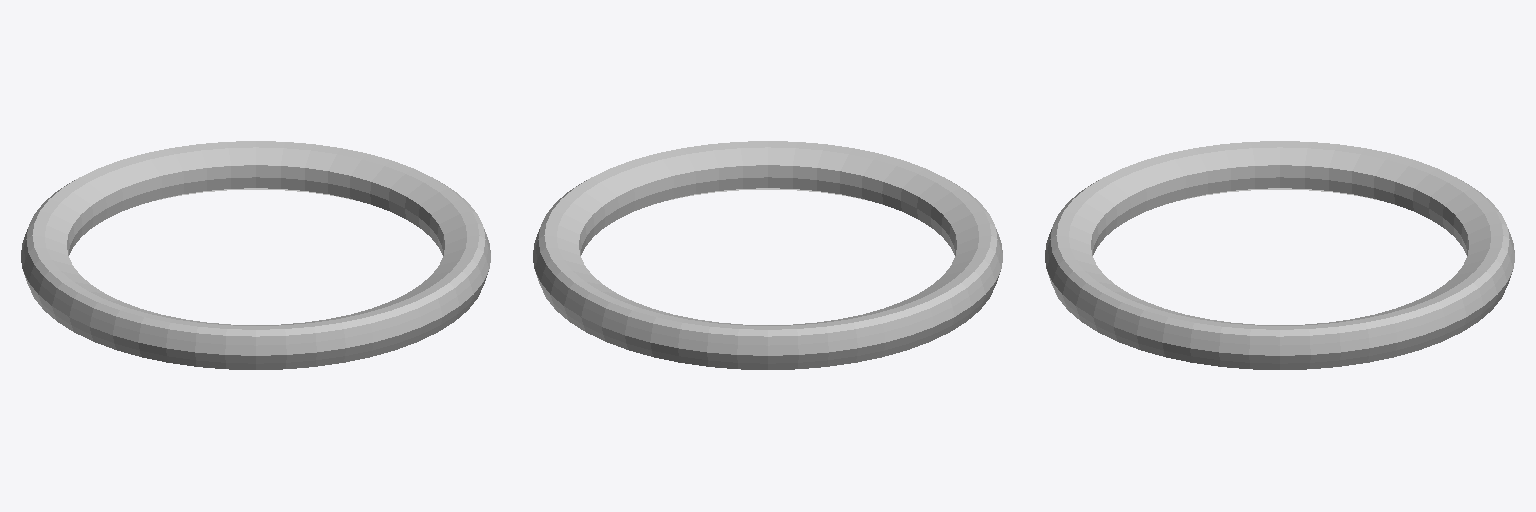
Rendered from ring-test.obj.
3 views of the same model, side by side, from view 1: azimuth 30°, elevation 25°; view 2: azimuth 150°, elevation 25°; view 3: azimuth 270°, elevation 25° (orthographic).
Visible parts, largest first — view 1: Torus; view 2: Torus; view 3: Torus.
Part boxes in pixels (x1,y1,x2,y2): Torus: (21, 141, 490, 369); Torus: (533, 141, 1002, 369); Torus: (1045, 141, 1514, 369).
Size of the model in its own units: 10.94 by 1.06 by 10.94.